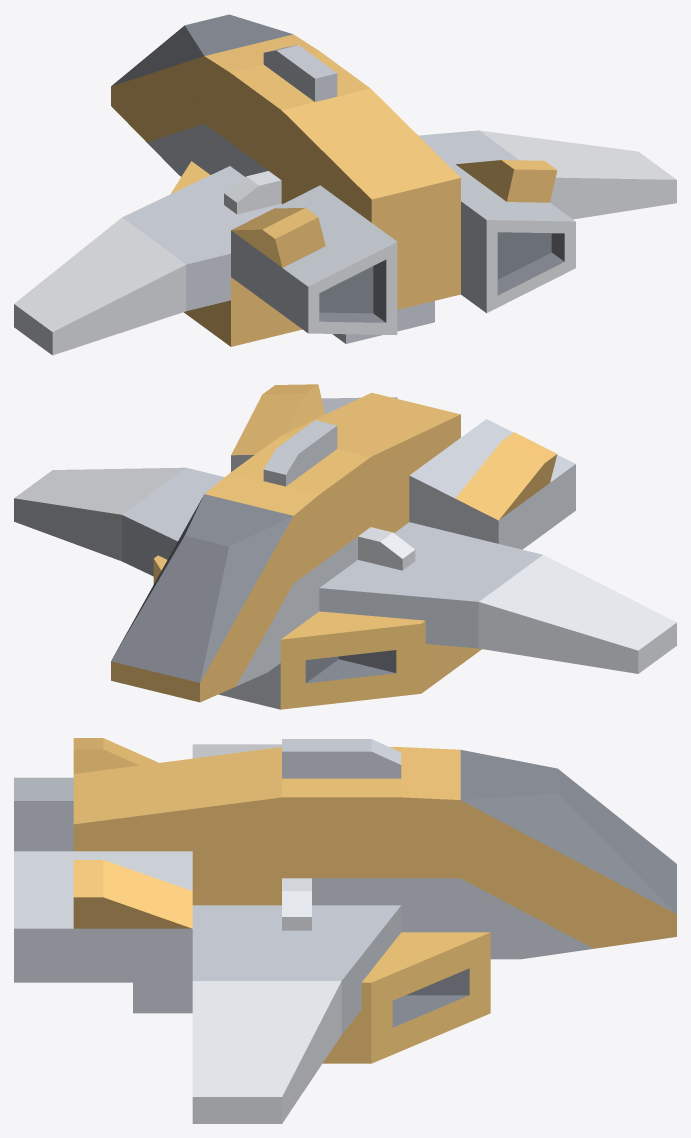
Rendered from craft_speederD.glb.
The picture shows the model from 3 angles, top to bottom: view 1: azimuth 30°, elevation 25°; view 2: azimuth 150°, elevation 25°; view 3: azimuth 270°, elevation 25°; orthographic projection. The views are drawn at different scales.
Visible parts, largest first — view 1: craft_speederD; view 2: craft_speederD; view 3: craft_speederD.
Boxes of the visible parts, <box> form: craft_speederD: <box>14,14,676,355</box>; craft_speederD: <box>14,384,676,709</box>; craft_speederD: <box>14,738,676,1123</box>.
Bounding box in the file's own units: 2.8 × 0.9 × 2.23.
1 material, 1 textured.
